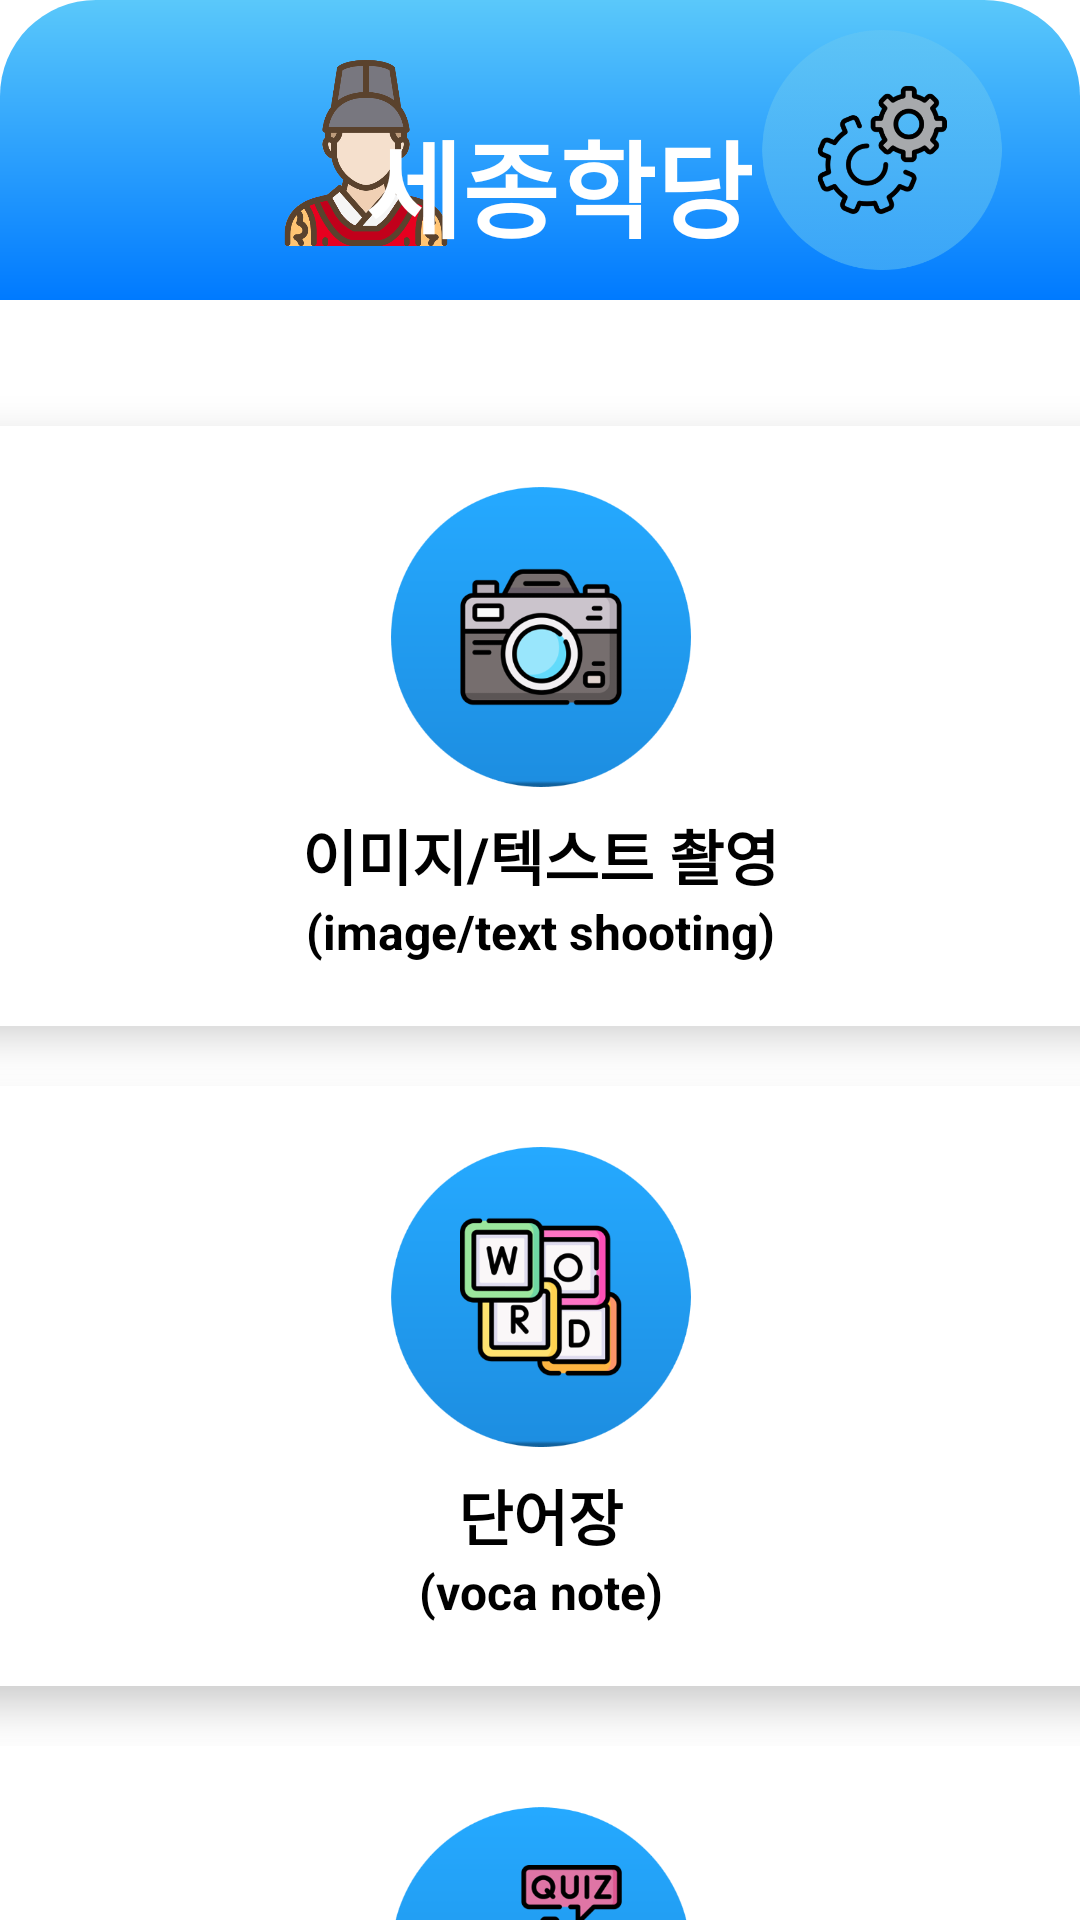

Icons on this 1080 x 1920 Android screen, each with the point to tap as (x=x, y=y):
camera: (x=541, y=637)
setting: (x=882, y=150)
